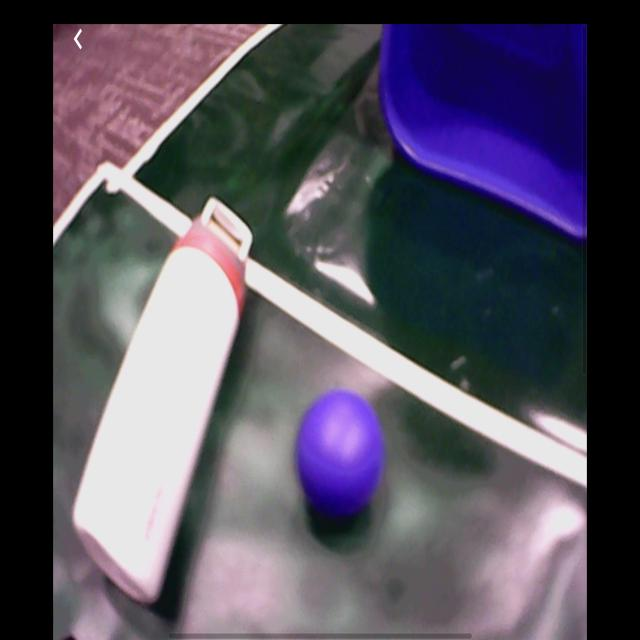ball: (298, 390, 384, 514)
